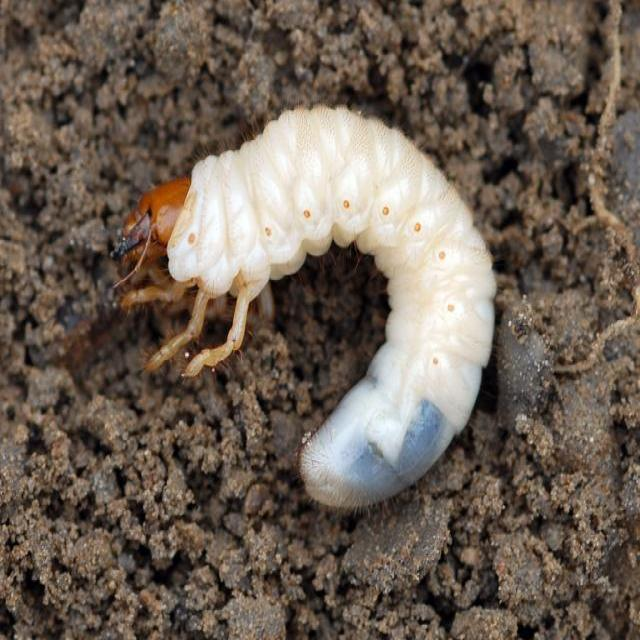Grub-Adult-: (113, 77, 526, 537)
